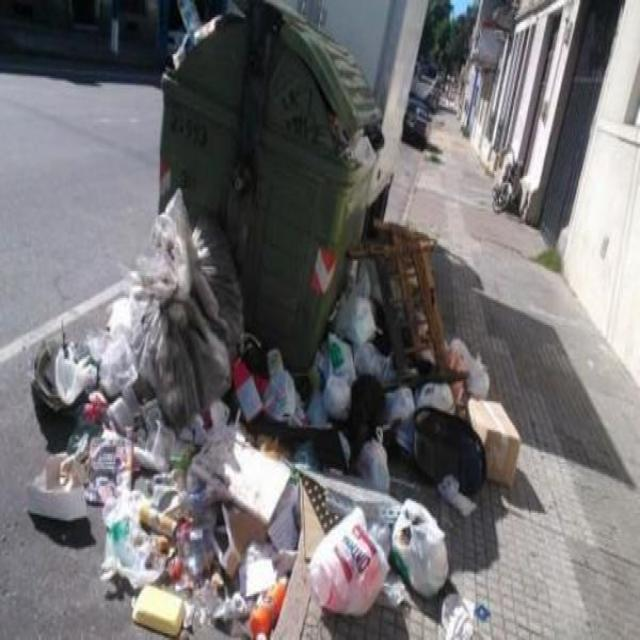garbage: (302, 219, 522, 640), (103, 185, 301, 640), (20, 318, 104, 533), (168, 3, 227, 75), (330, 118, 400, 156)
